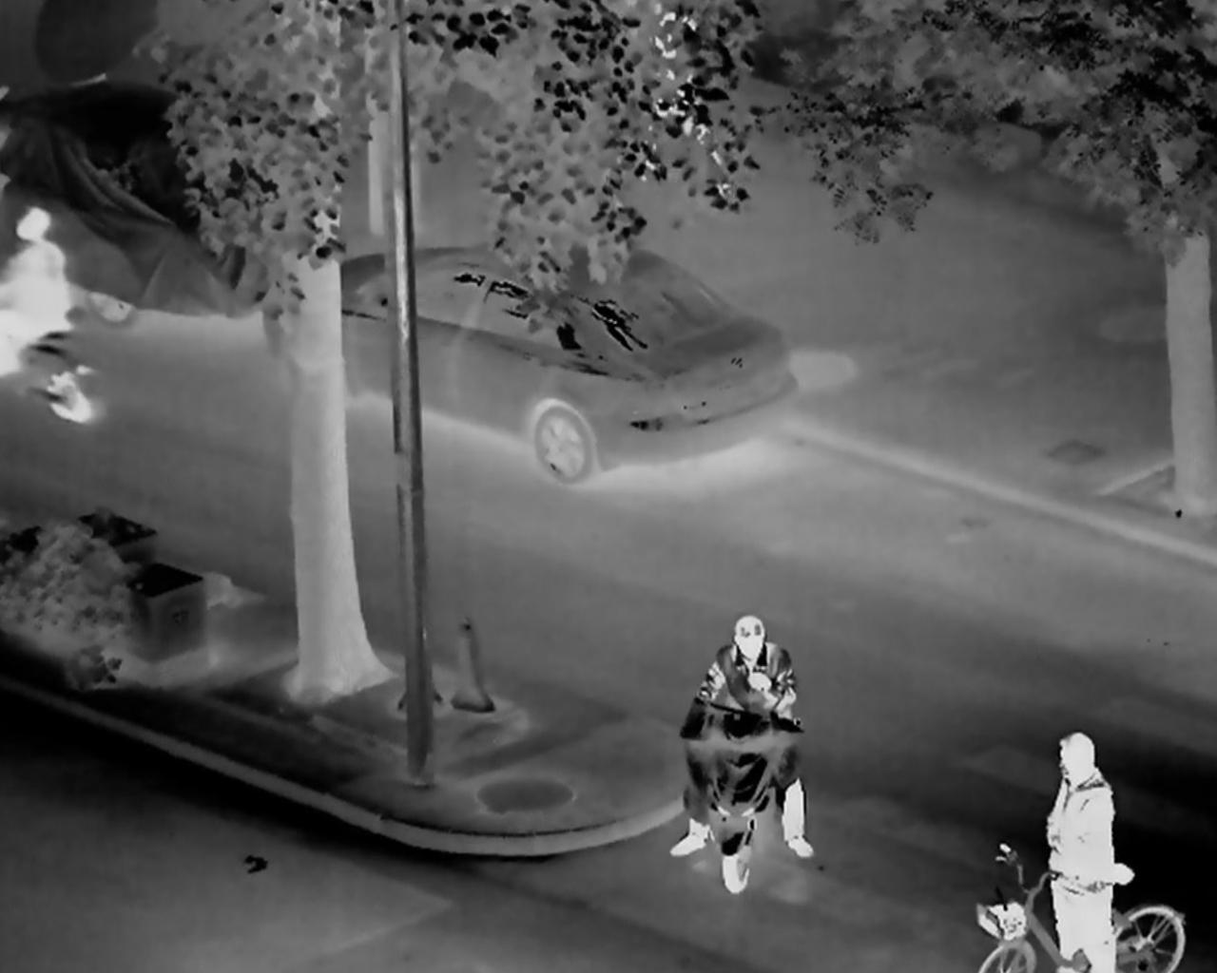person: (666, 610, 818, 917), (1018, 735, 1150, 973), (3, 202, 87, 414), (638, 8, 724, 188)
